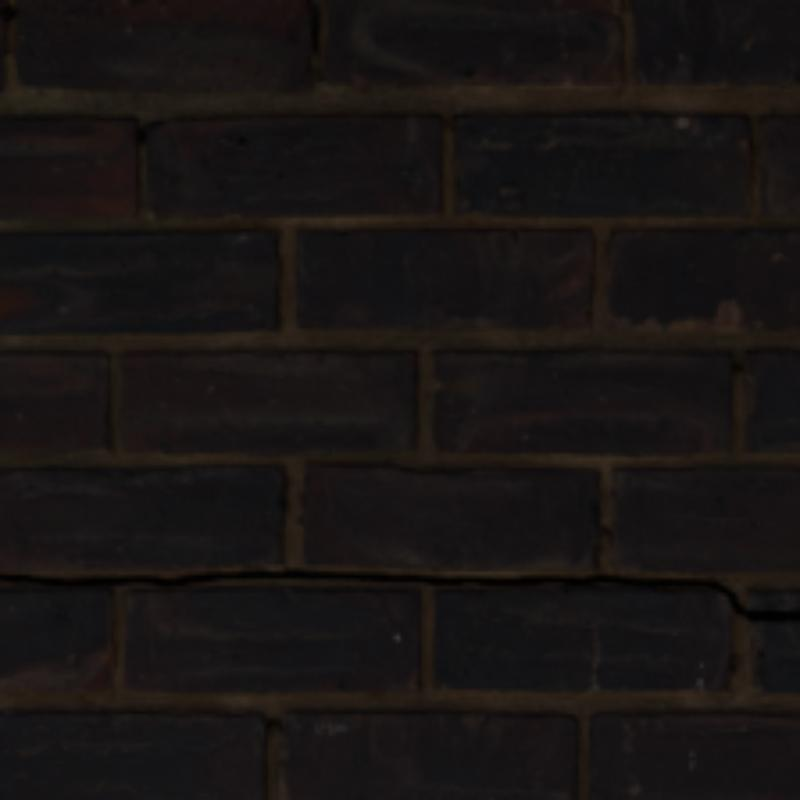pothole: (0, 571, 611, 586), (611, 579, 796, 618)
